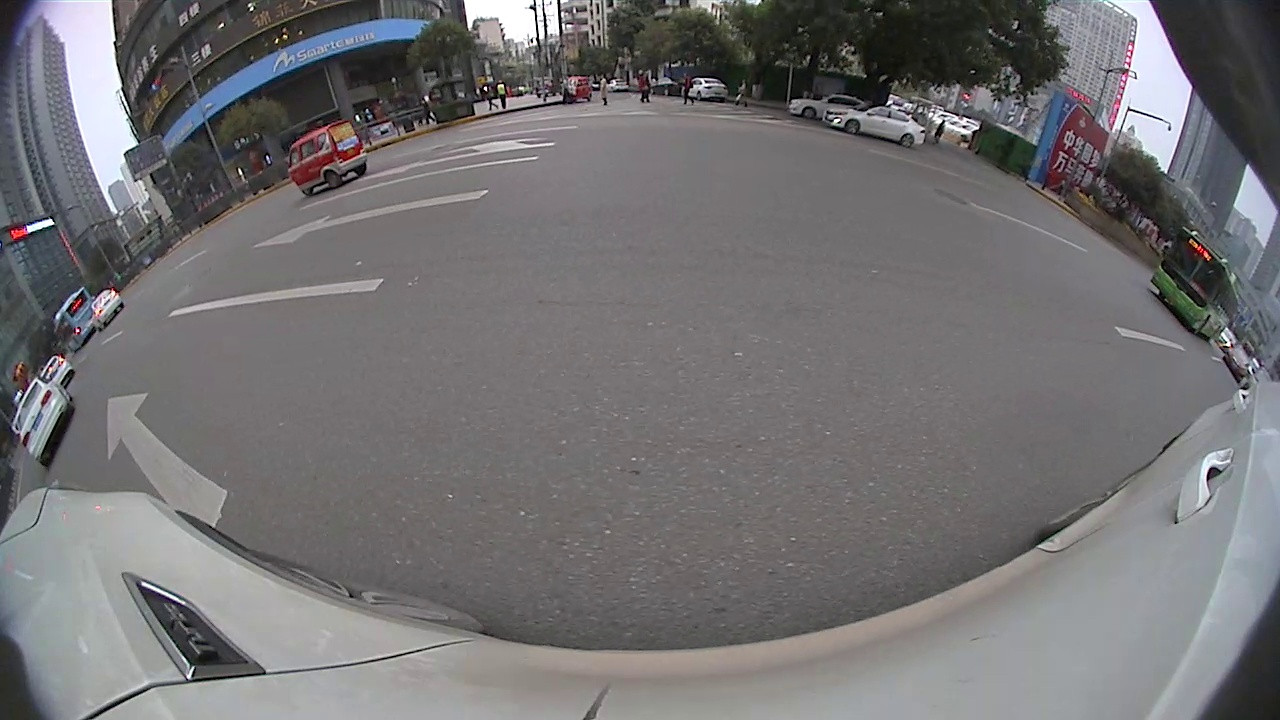bus: (1149, 223, 1242, 343), (48, 289, 99, 350)
car: (13, 377, 74, 470), (824, 105, 928, 148), (788, 93, 868, 119), (89, 288, 126, 328), (37, 354, 74, 387), (1223, 345, 1253, 379)
front: (843, 119, 863, 138), (800, 106, 819, 121)
rear: (323, 170, 344, 192), (897, 132, 918, 150)
rider: (287, 117, 369, 198)
